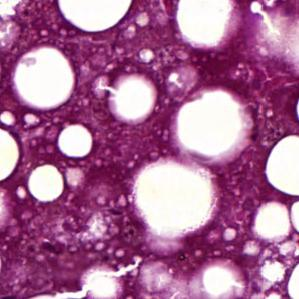steatosis: (56, 122, 102, 159), (30, 161, 66, 208)
